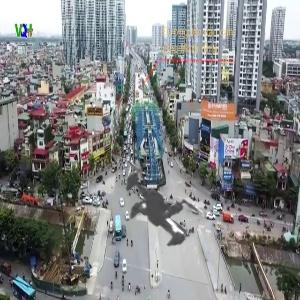drone: (70, 132, 239, 300)
